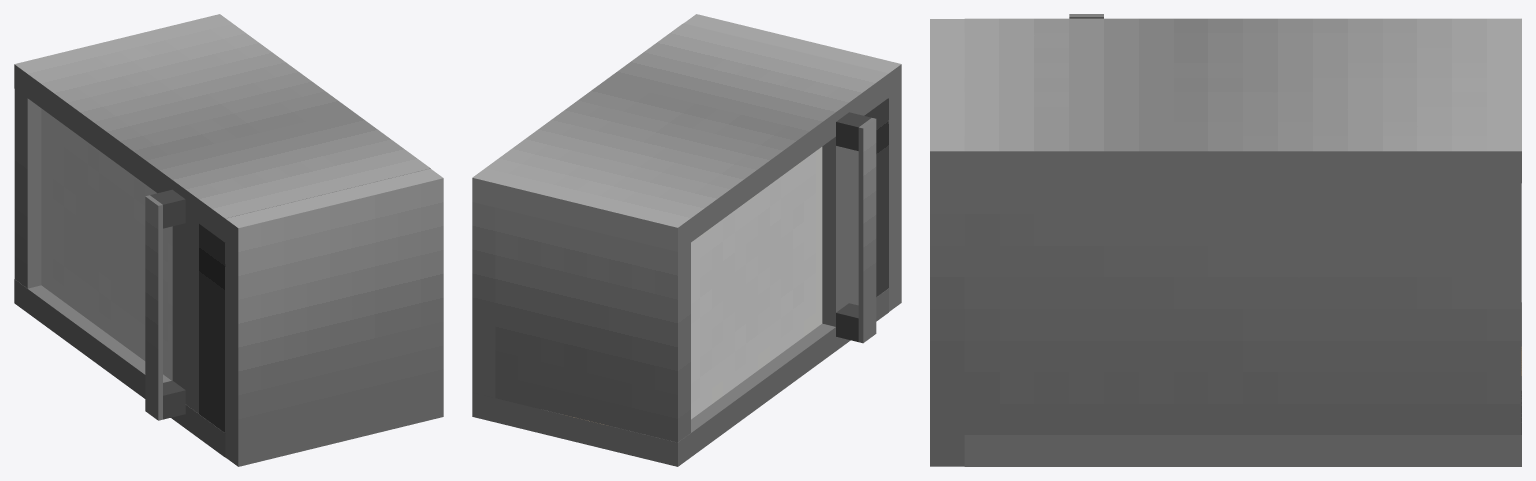
Rendered from Microwave.gltf.
The picture shows the model from 3 angles, left to right: view 1: azimuth 30°, elevation 25°; view 2: azimuth 150°, elevation 25°; view 3: azimuth 270°, elevation 25°; orthographic projection. The views are drawn at different scales.
Visible parts, largest first — view 1: cube (×7), plane; view 2: cube (×8), plane; view 3: cube (×4).
Part boxes in pixels (left/top/right/bottom): cube (×7): left=14, top=14, right=443, bottom=466; plane: left=41, top=108, right=172, bottom=380; cube (×8): left=472, top=14, right=901, bottom=466; plane: left=691, top=147, right=822, bottom=419; cube (×4): left=930, top=18, right=1521, bottom=466.
Bounding box in the file's own units: 0.1595 × 0.1565 × 0.2658.
Materials: 1 (1 with a texture image).
